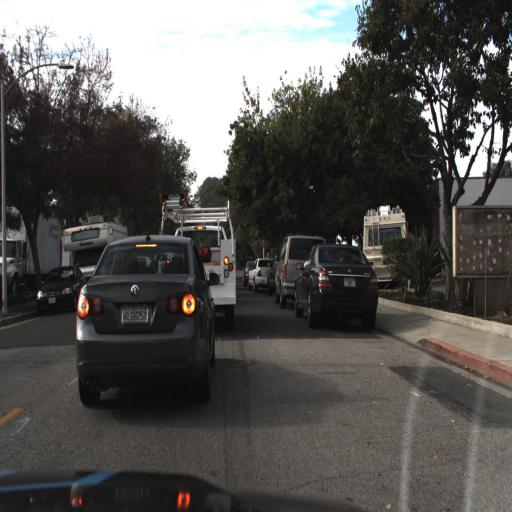car: (76, 232, 219, 407), (290, 240, 380, 332), (202, 200, 242, 332), (272, 231, 328, 309), (59, 210, 121, 273), (33, 260, 87, 317), (246, 254, 275, 296), (264, 245, 280, 301)
truck: (174, 222, 240, 320), (0, 203, 60, 298), (357, 197, 412, 295), (61, 215, 128, 288)
